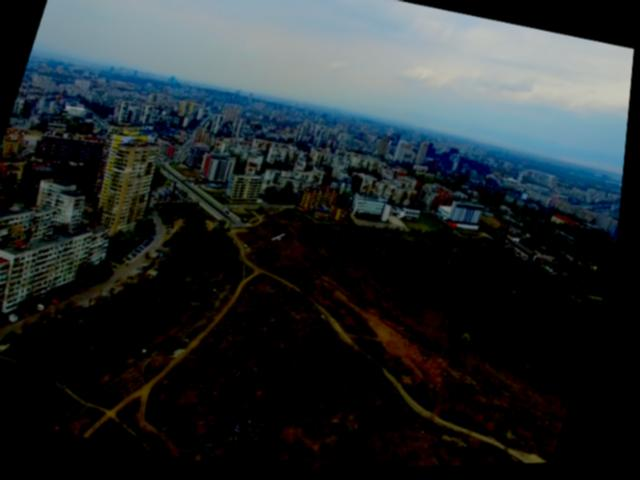plane: (275, 233, 290, 244)
